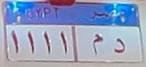1: (41, 28, 54, 57), (26, 27, 38, 57), (61, 28, 70, 60), (12, 26, 21, 54)
د: (110, 34, 129, 57)
م: (88, 29, 106, 56)
